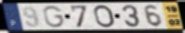3: (122, 4, 141, 28)
6: (143, 4, 164, 28)
7: (70, 5, 90, 29)
9: (22, 6, 41, 29)
G: (42, 5, 66, 28)
O: (92, 4, 117, 29)
